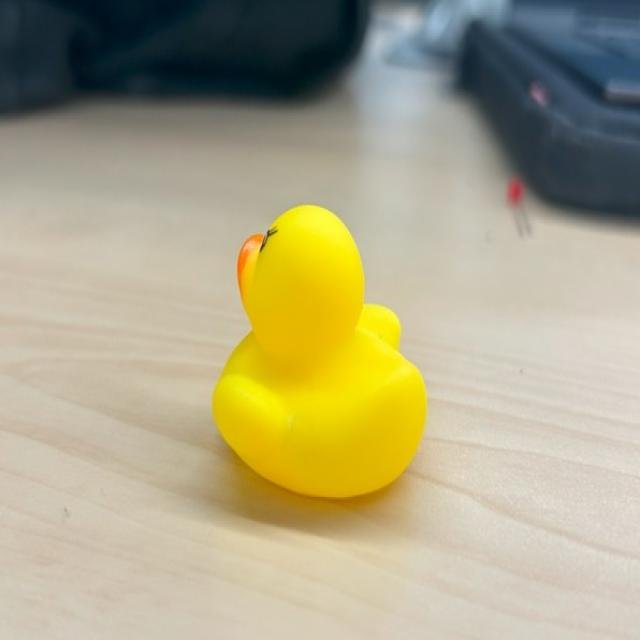duck_regular: (183, 172, 450, 537)
